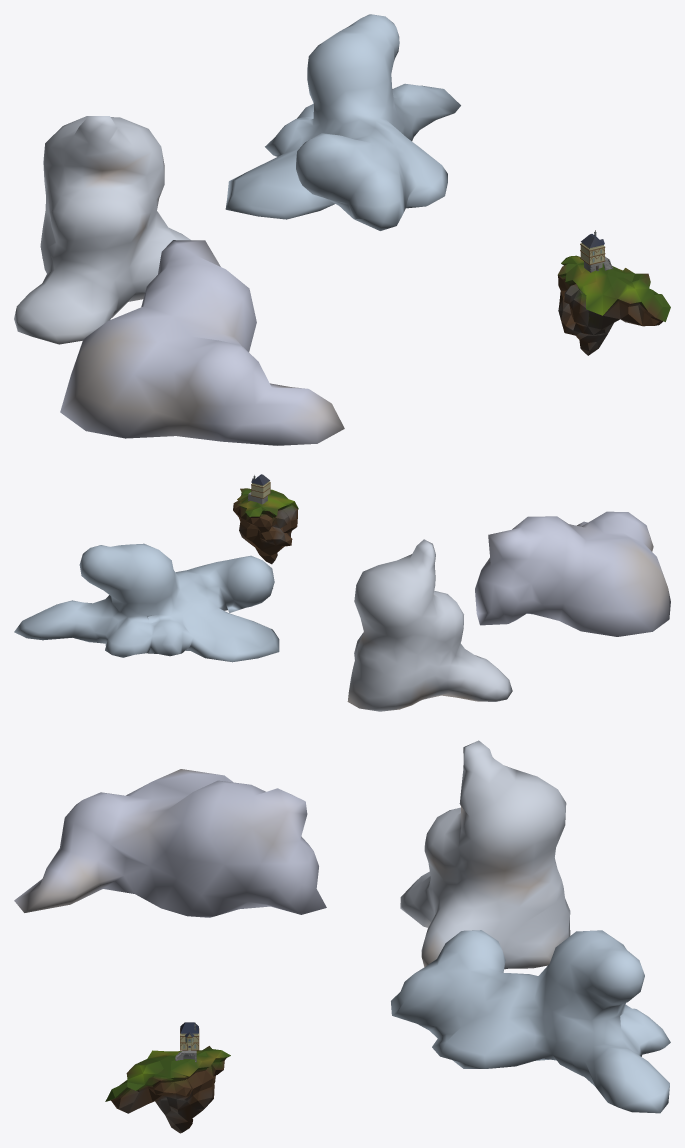
The model's file is island.glb.
The picture shows the model from 3 angles, top to bottom: view 1: azimuth 30°, elevation 25°; view 2: azimuth 150°, elevation 25°; view 3: azimuth 270°, elevation 25°; orthographic projection. The views are drawn at different scales.
Visible parts, largest first — view 1: Icosphere.012, Icosphere.013, Icosphere.004, Icosphere.022, Cube; view 2: Icosphere.013, Icosphere.012, Icosphere.004, Icosphere.022, Cube; view 3: Icosphere.012, Icosphere.013, Icosphere.004, Icosphere.022, Cube.
Boxes of the visible parts, x1,y1,x2,y2 form: Icosphere.012: [60, 240, 344, 445]; Icosphere.013: [225, 14, 460, 230]; Icosphere.004: [14, 116, 190, 344]; Icosphere.022: [557, 255, 670, 355]; Cube: [580, 230, 613, 272]; Icosphere.013: [14, 543, 279, 662]; Icosphere.012: [475, 511, 670, 636]; Icosphere.004: [347, 539, 512, 711]; Icosphere.022: [233, 488, 298, 564]; Cube: [248, 474, 270, 504]; Icosphere.012: [14, 769, 326, 917]; Icosphere.013: [391, 930, 670, 1113]; Icosphere.004: [400, 740, 570, 969]; Icosphere.022: [105, 1046, 230, 1133]; Cube: [175, 1022, 199, 1062].
Size of the model in its own units: 143 by 49.85 by 135.
